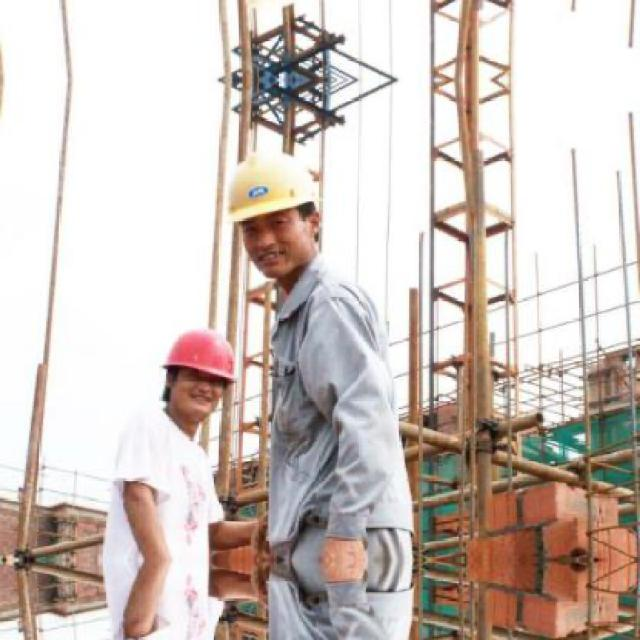con casco: (215, 147, 351, 296), (147, 316, 255, 429)
